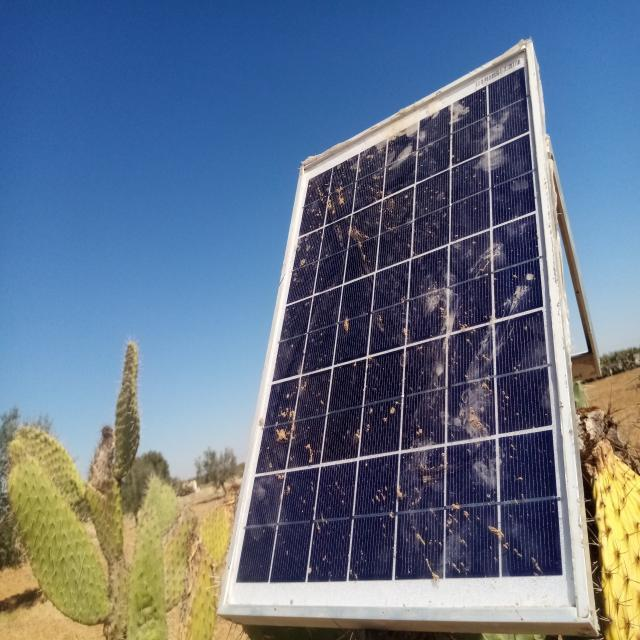faulty: (220, 43, 588, 617)
